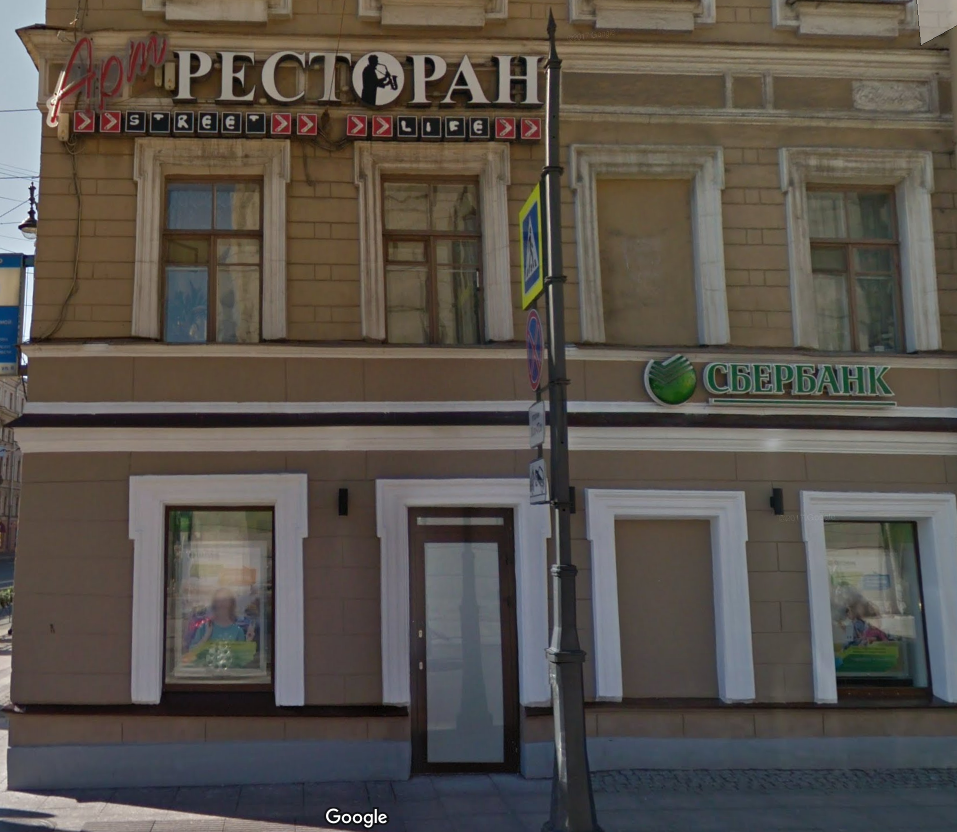door: (407, 505, 514, 775)
signboard: (46, 24, 548, 144), (638, 333, 901, 419)
window: (155, 495, 272, 705), (821, 519, 931, 699), (807, 181, 919, 348), (380, 174, 490, 343), (160, 174, 260, 341)
